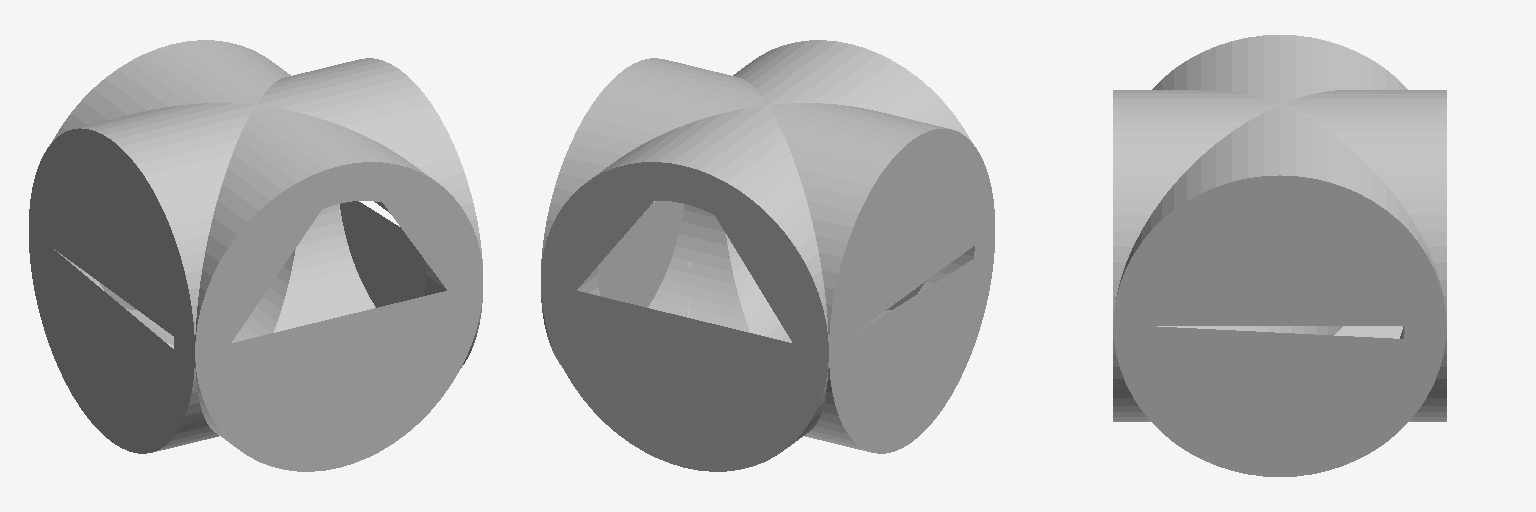
Rendered from tube_quad.obj.
3 views of the same model, side by side, from view 1: azimuth 30°, elevation 25°; view 2: azimuth 150°, elevation 25°; view 3: azimuth 270°, elevation 25° (orthographic).
Parts seen in each view (by area): view 1: Cylinder.001_Cylinder.023; view 2: Cylinder.001_Cylinder.023; view 3: Cylinder.001_Cylinder.023.
Part boxes in pixels (x1,y1,x2,y2): Cylinder.001_Cylinder.023: (29,40,482,471); Cylinder.001_Cylinder.023: (541,40,994,471); Cylinder.001_Cylinder.023: (1113,35,1446,476).
Size of the model in its own units: 2 by 2 by 2.